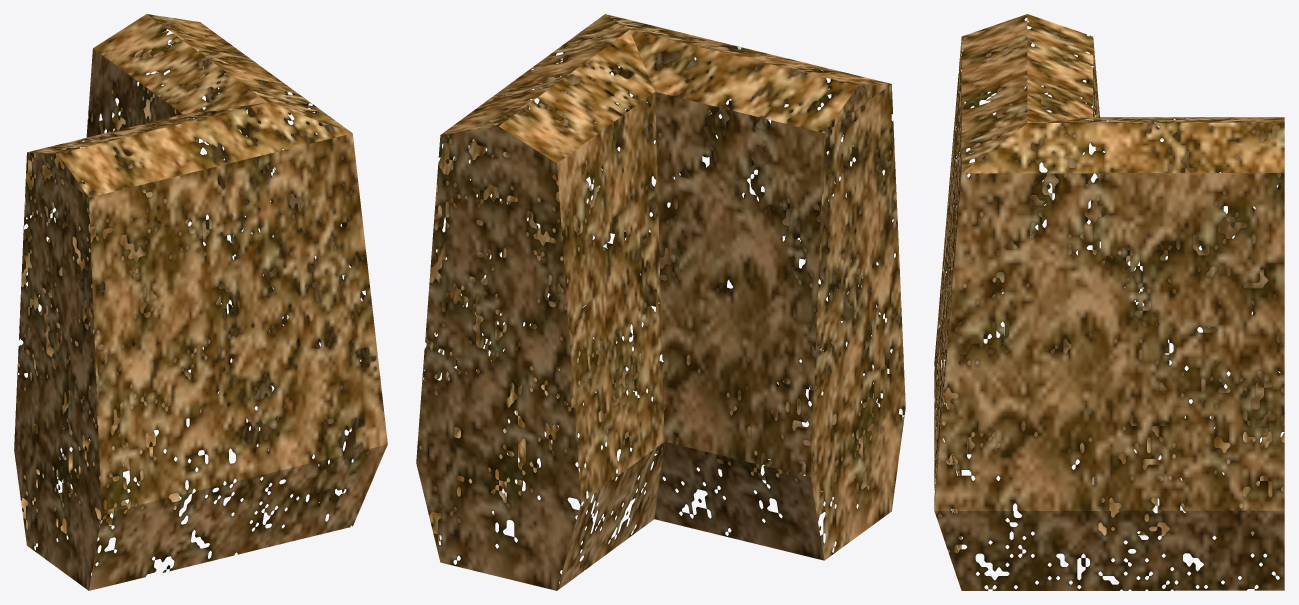
The model's file is bush_long_square_corner_autumn.fbx.
3 renders of one model, left to right at view 1: azimuth 30°, elevation 25°; view 2: azimuth 150°, elevation 25°; view 3: azimuth 270°, elevation 25°, orthographic. The views are drawn at different scales.
Parts seen in each view (by area): view 1: bush_long_square_corner_autumn; view 2: bush_long_square_corner_autumn; view 3: bush_long_square_corner_autumn.
Boxes of the visible parts, left/top/right/bottom form: bush_long_square_corner_autumn: left=14, top=14, right=387, bottom=590; bush_long_square_corner_autumn: left=416, top=14, right=905, bottom=590; bush_long_square_corner_autumn: left=934, top=14, right=1284, bottom=590.
Size of the model in its own units: 136 by 188 by 135.
1 material, 1 textured.
